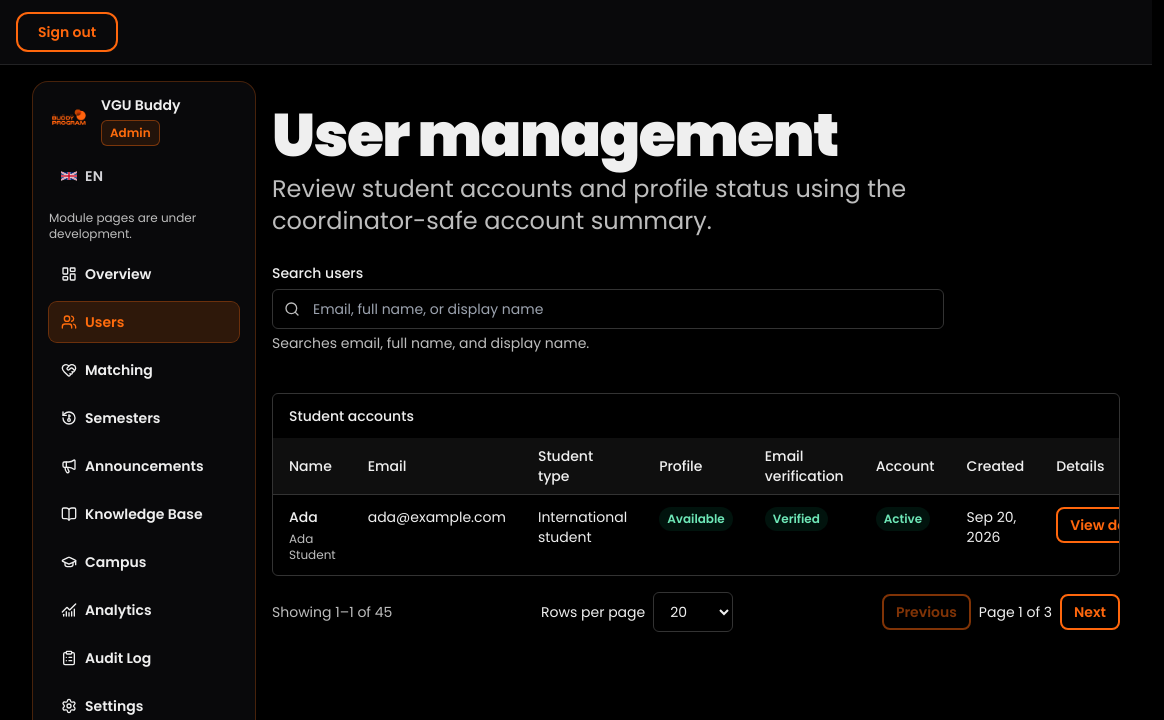
Test: ADMIN-012 guarded Admin User Management page › switches all page controls and table labels to German without another request
This screenshot has width=1164, height=720.
Check: the text "ada@example.com" is shown, box [352,494,522,575]
Click the button with aria-label "Switch to German" at [82, 176], box [49,158,116,194]
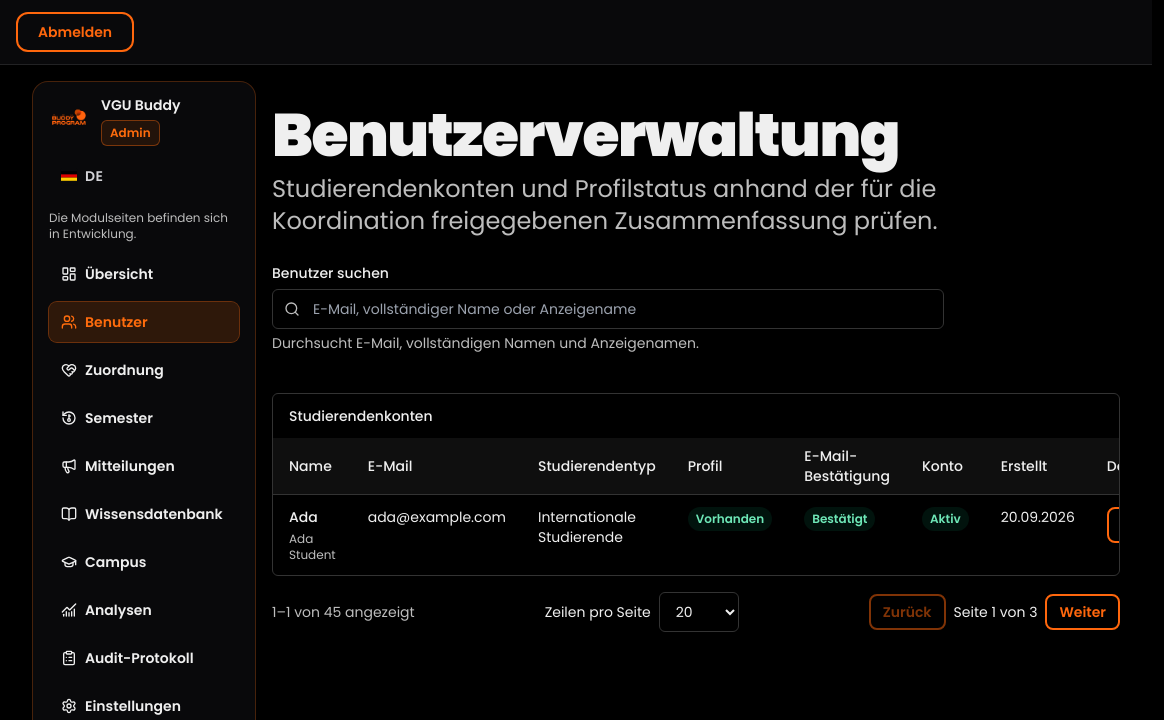
Check: the heading "Benutzerverwaltung" is shown, box [272,93,899,177]
Check: the table "Studierendenkonten" is shown, box [273,394,1120,575]
Check: the text "Internationale Studierende" is shown, box [522,494,672,575]
